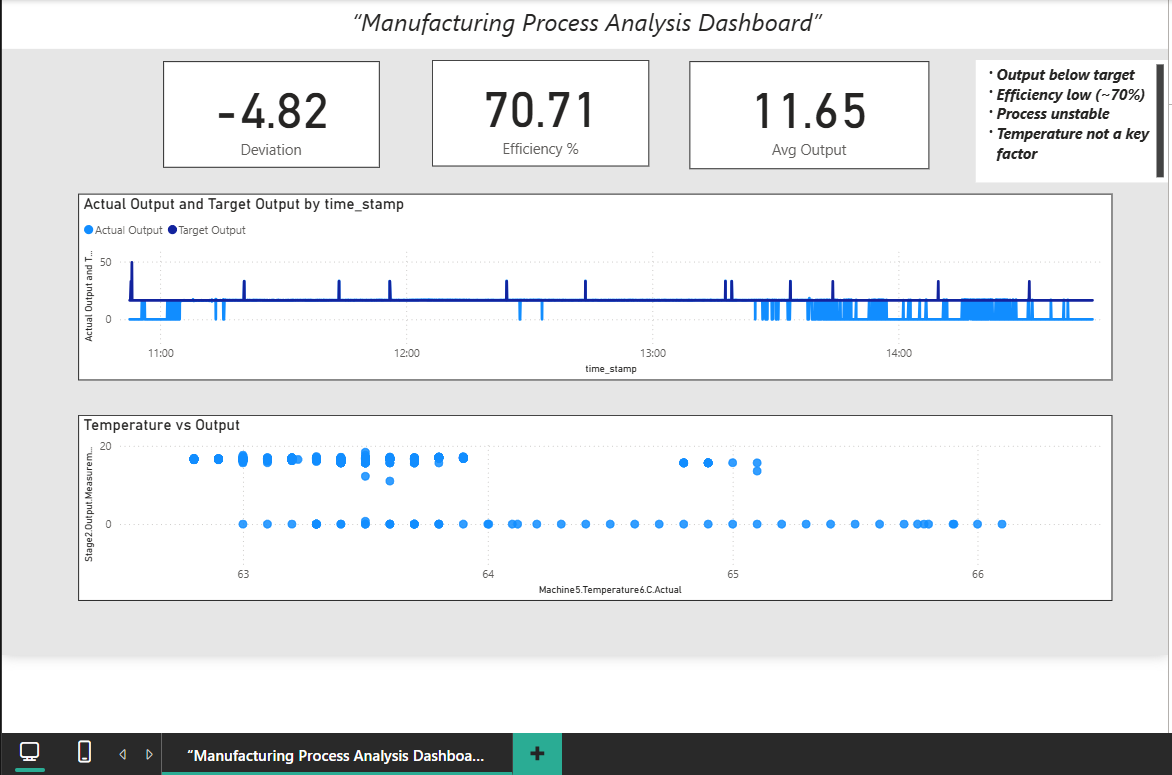

The dashboard page shown, as its layout file describes it:
{"tool":"powerbi","page":{"name":"“Manufacturing Process Analysis Dashboard”","canvas":[1280,720],"ordinal":0},"visuals":[{"type":"card","fields":{"Values":["continuous_factory_process.Deviation"]},"box":[177,67.2,237.4,116.6],"z":0},{"type":"card","fields":{"Values":["continuous_factory_process.Efficiency %"]},"box":[472,65.9,238.8,116.6],"z":1000},{"type":"card","fields":{"Values":["continuous_factory_process.Avg Output"]},"box":[754.7,67.2,263.5,118],"z":2000},{"type":"lineChart","fields":{"Y":["Sum(continuous_factory_process.Stage2.Output.Measurement9.U.Actual)","Sum(continuous_factory_process.Stage2.Output.Measurement9.U.Setpoint)"],"Category":["continuous_factory_process.time_stamp"]},"box":[83.7,212.7,1134.8,204.5],"z":3000},{"type":"scatterChart","title":"Temperature vs Output","fields":{"X":["continuous_factory_process.Machine5.Temperature6.C.Actual"],"Y":["continuous_factory_process.Stage2.Output.Measurement9.U.Actual"]},"box":[84,455,1135,204],"z":3001},{"type":"textbox","box":[0,0,1280.3,53.5],"z":3002},{"type":"textbox","box":[1069,65.9,211.3,134.5],"z":3003}]}

Visuals, with their boxes on the page's 1280x720 design canvas (x1, y1, x2, y2). These are canvas units, not pixel positions in the 1172x775 screenshot, which may show the page scaled, cropped or inside an application window:
card - continuous_factory_process.Deviation: 177, 67, 414, 184
card - continuous_factory_process.Efficiency %: 472, 66, 711, 182
card - continuous_factory_process.Avg Output: 755, 67, 1018, 185
lineChart - Sum(continuous_factory_process.Stage2.Output.Measurement9.U.Actual) x Sum(continuous_factory_process.Stage2.Output.Measurement9.U.Setpoint): 84, 213, 1218, 417
"Temperature vs Output" scatterChart: 84, 455, 1219, 659
textbox: 0, 0, 1280, 54
textbox: 1069, 66, 1280, 200
